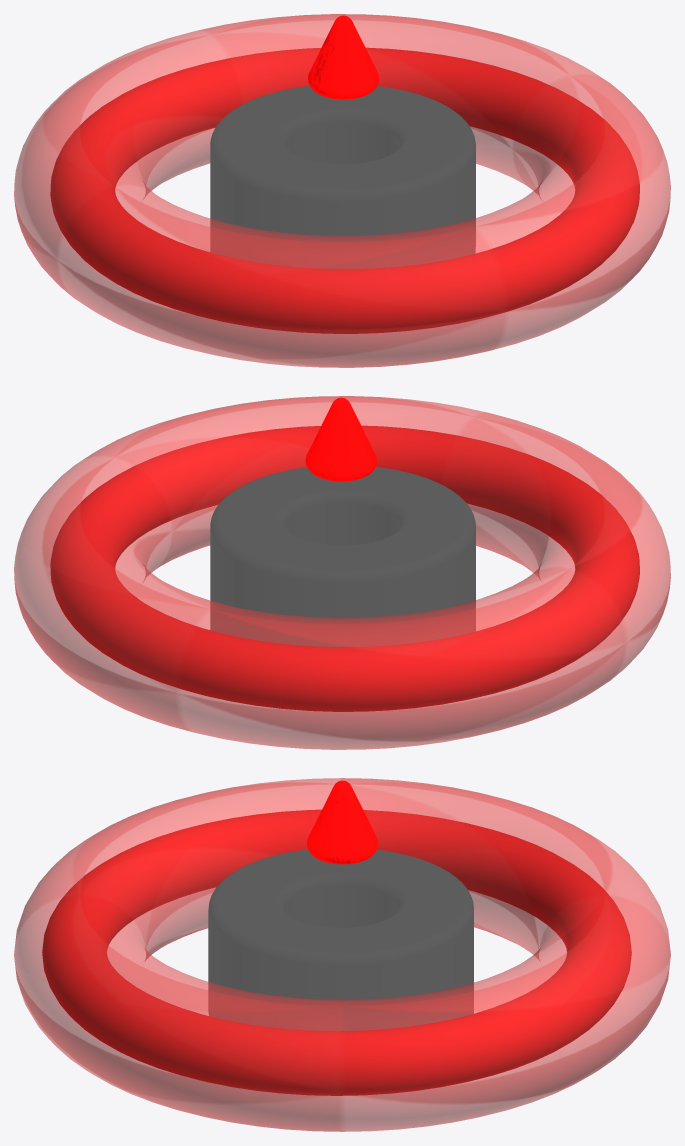
Rendered from GlassDougnutCommunicationUnit-red-v60.glb.
The picture shows the model from 3 angles, top to bottom: view 1: azimuth 30°, elevation 25°; view 2: azimuth 150°, elevation 25°; view 3: azimuth 270°, elevation 25°; orthographic projection.
Visible parts, largest first — view 1: Torus, Torus 1, Tube, Cone; view 2: Torus, Torus 1, Tube, Cone; view 3: Torus, Torus 1, Tube, Cone.
Boxes of the visible parts, x1,y1,x2,y2 form: Torus: [14, 14, 670, 367]; Torus 1: [50, 47, 639, 333]; Tube: [210, 86, 475, 268]; Cone: [308, 15, 379, 99]; Torus: [14, 396, 670, 749]; Torus 1: [50, 425, 639, 711]; Tube: [210, 467, 475, 647]; Cone: [305, 397, 376, 481]; Torus: [14, 778, 670, 1131]; Torus 1: [42, 809, 631, 1095]; Tube: [208, 849, 473, 1030]; Cone: [307, 780, 378, 864].
Size of the model in its own units: 2.7 by 1.09 by 2.7.
4 materials, 2 textured.
